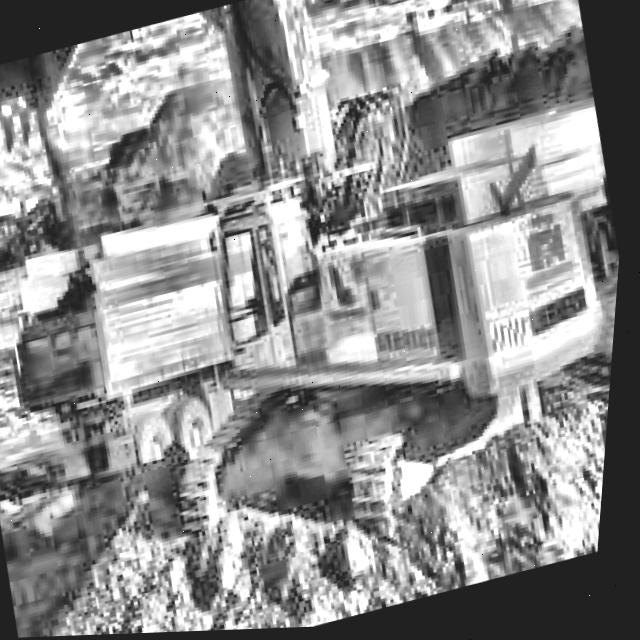dump_truck: (0, 206, 265, 522), (528, 96, 633, 292)
excavator: (0, 0, 640, 616)
